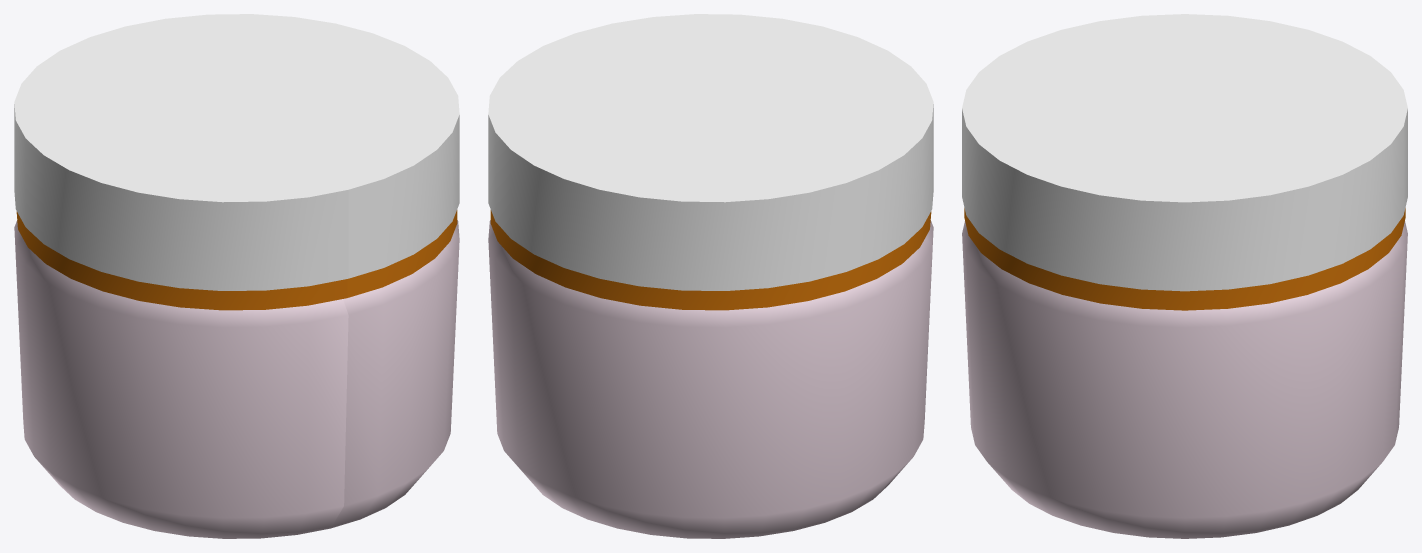
Rendered from cream-jar.glb.
The picture shows the model from 3 angles, left to right: view 1: azimuth 30°, elevation 25°; view 2: azimuth 150°, elevation 25°; view 3: azimuth 270°, elevation 25°; orthographic projection.
Parts seen in each view (by area): view 1: Jar_Lid, Jar_Body, Gold_Band; view 2: Jar_Lid, Jar_Body, Gold_Band; view 3: Jar_Lid, Jar_Body, Gold_Band.
Part boxes in pixels (x1,y1,x2,y2): Jar_Lid: [14, 14, 459, 290]; Jar_Body: [14, 220, 459, 538]; Gold_Band: [16, 210, 457, 310]; Jar_Lid: [488, 14, 933, 290]; Jar_Body: [488, 220, 933, 538]; Gold_Band: [490, 210, 931, 310]; Jar_Lid: [962, 14, 1407, 291]; Jar_Body: [962, 221, 1407, 538]; Gold_Band: [964, 208, 1405, 310].
Bounding box in the file's own units: 0.1 × 0.087 × 0.1.
